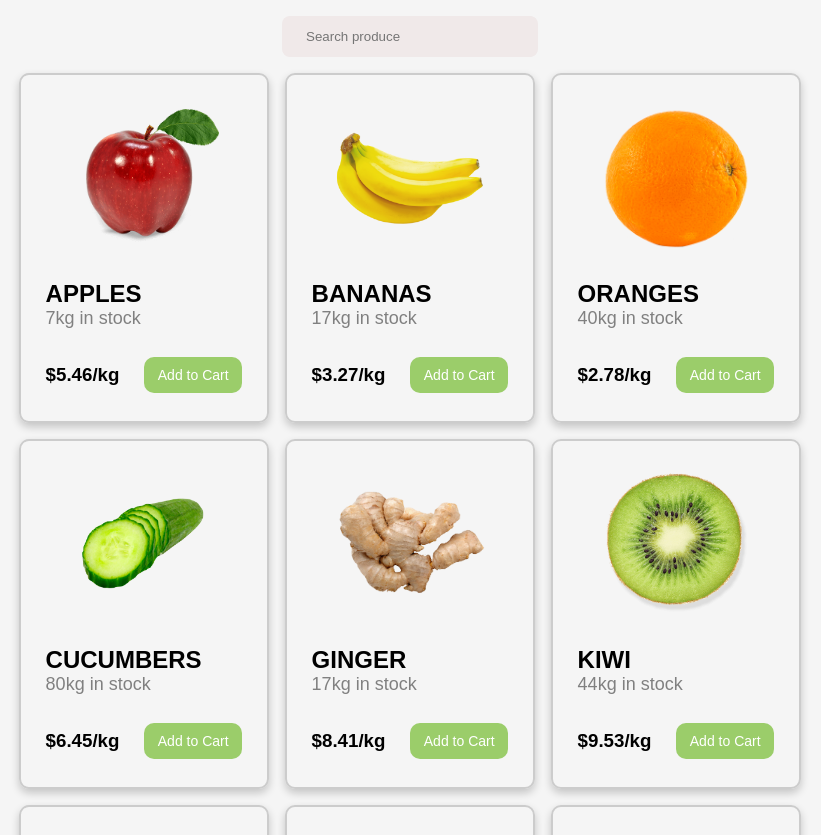
it: StorePage › The render store products that match the userinput
In the field with placeholder "Search produce": (410, 36) [282,16,538,57], type "APPLES"
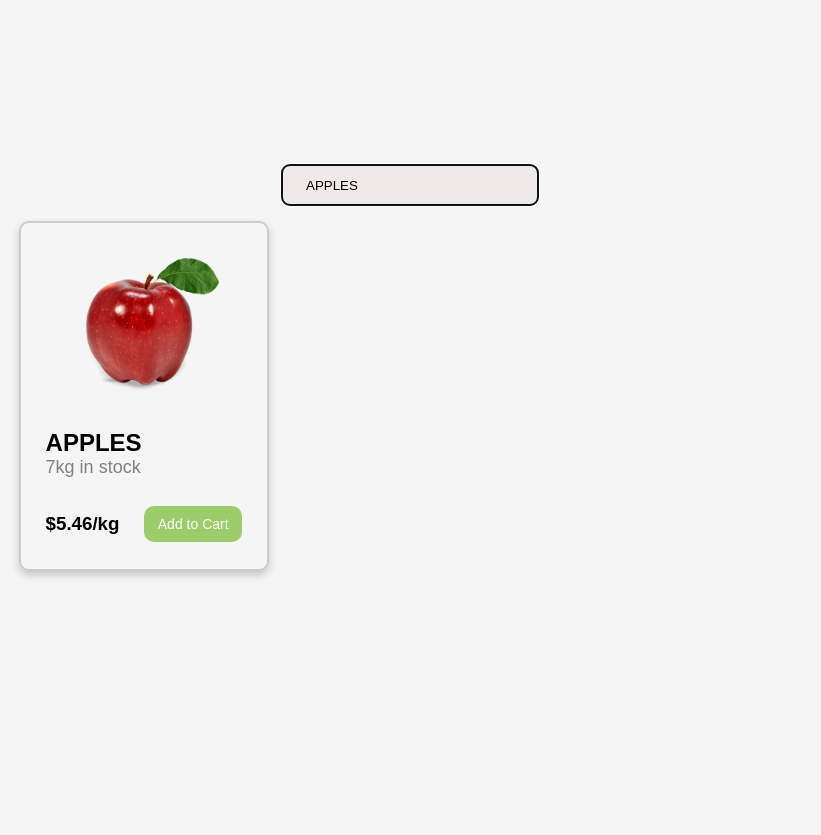
Result: the number of elements with test id "product-card" is 1 at [19,221,269,571]
